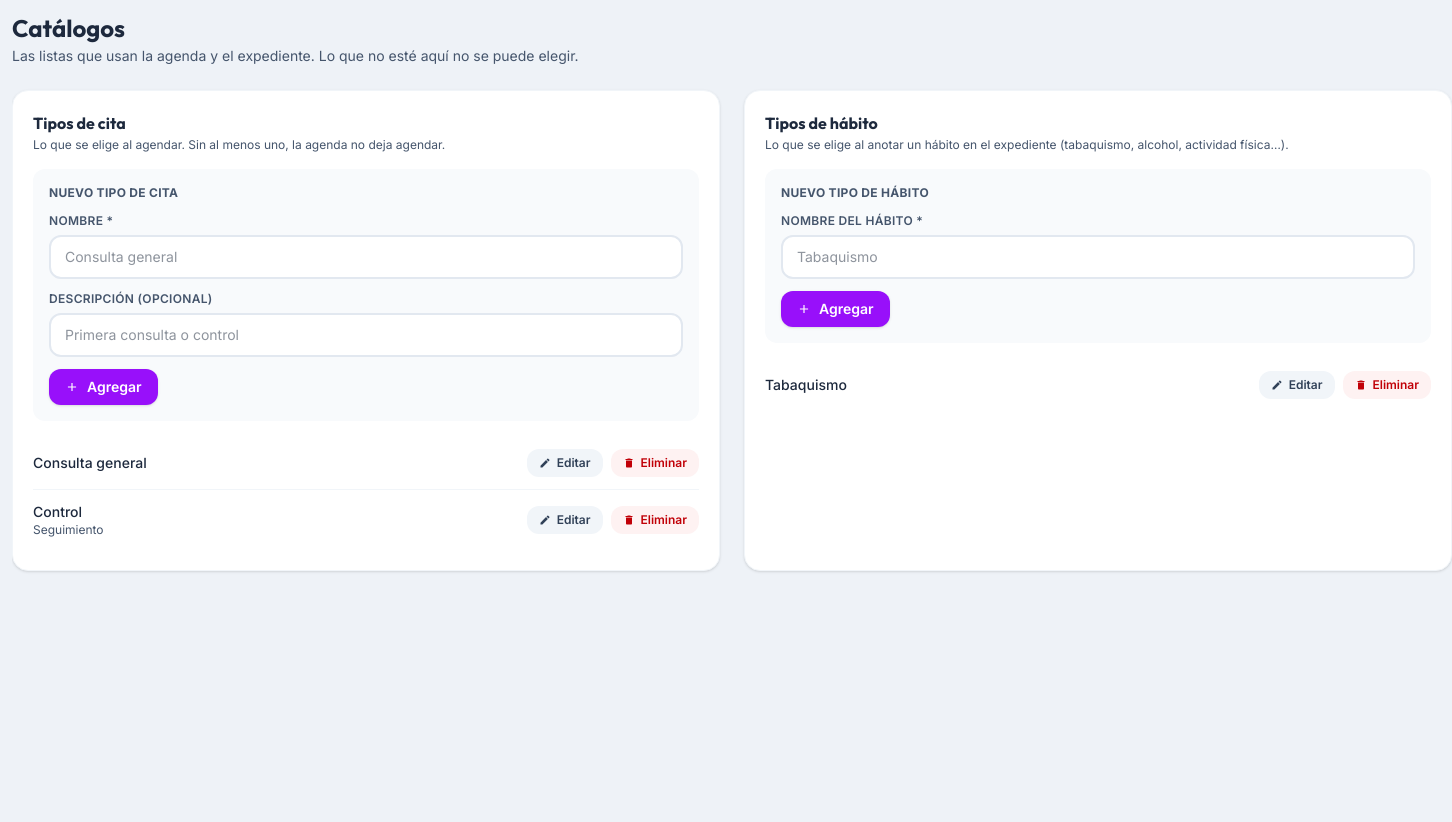
Test case: catálogos · crear › muestra el mensaje del backend cuando rechaza el alta
Check: the list named "Tipos de cita" is shown, box [33,437,699,550]
Check: the list named "Tipos de hábito" is shown, box [765,371,1431,399]
Type "Sedentarismo" into the field labelled "Nombre del hábito *" at [1098, 257], box [781,235,1415,279]
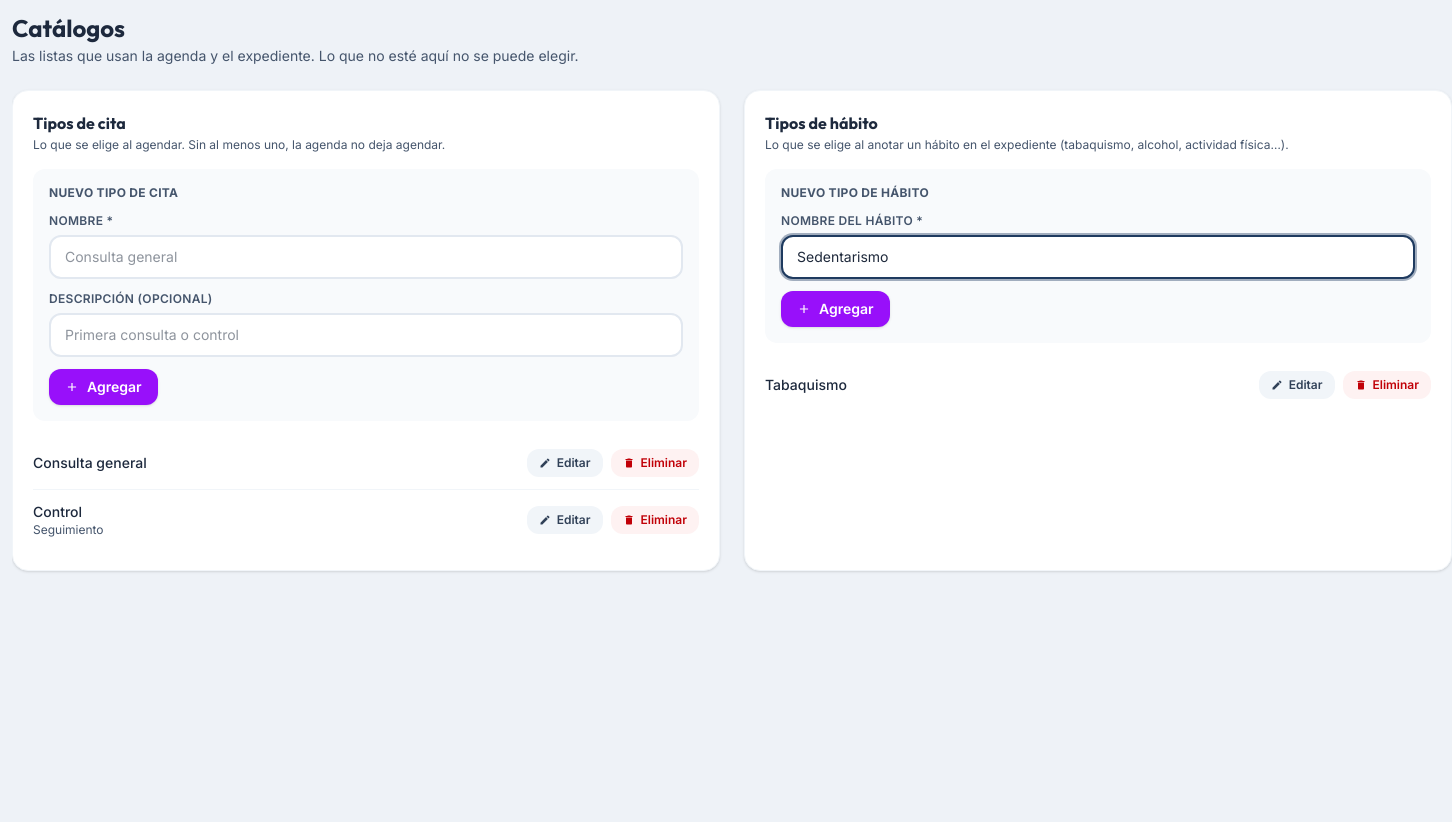
Click the button "Agregar" below "Nombre del hábito" at [835, 309], box [781,291,890,327]
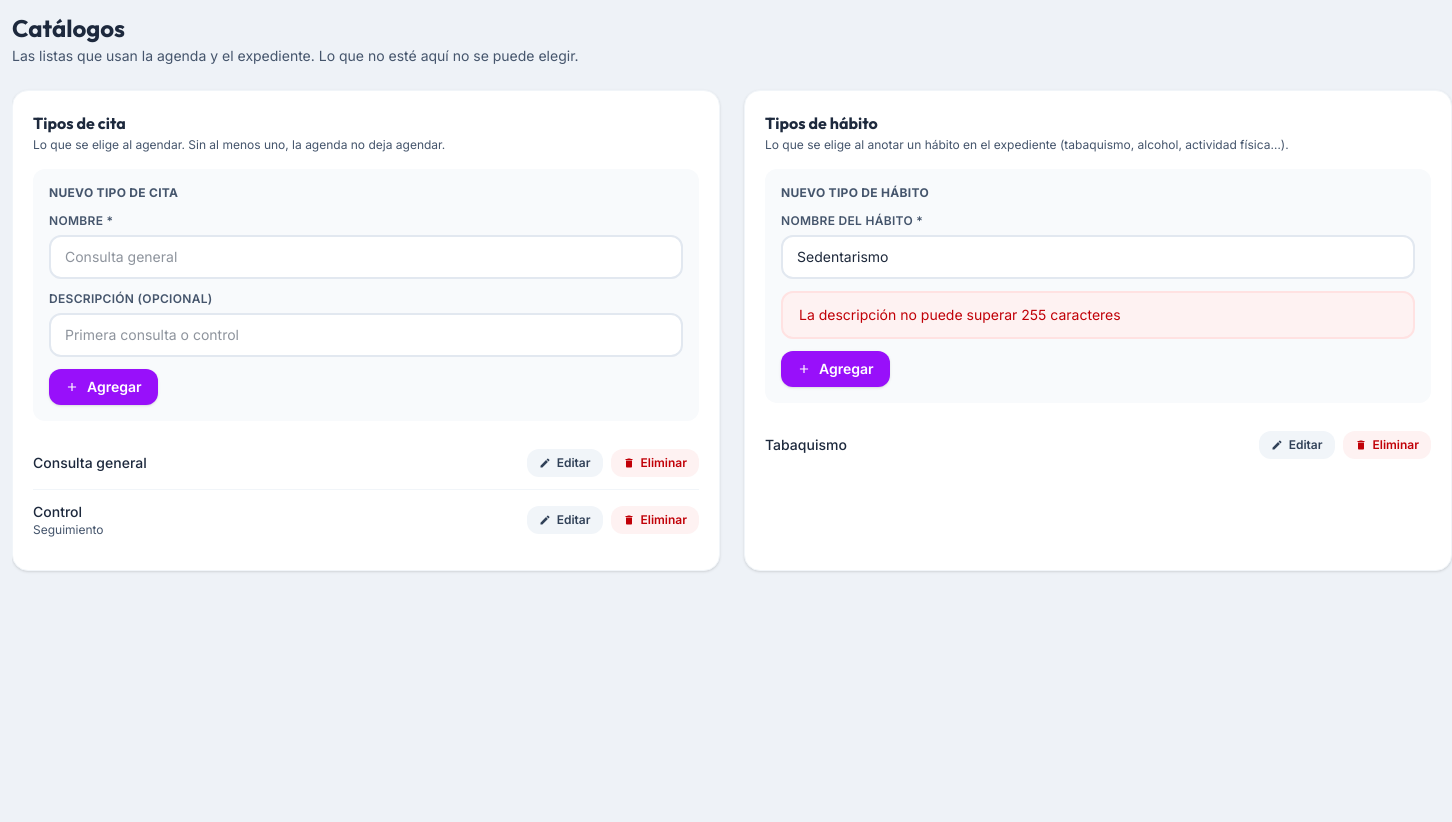
Check: the message reads "La descripción no puede superar 255 caracteres", box [799,306,1121,323]
